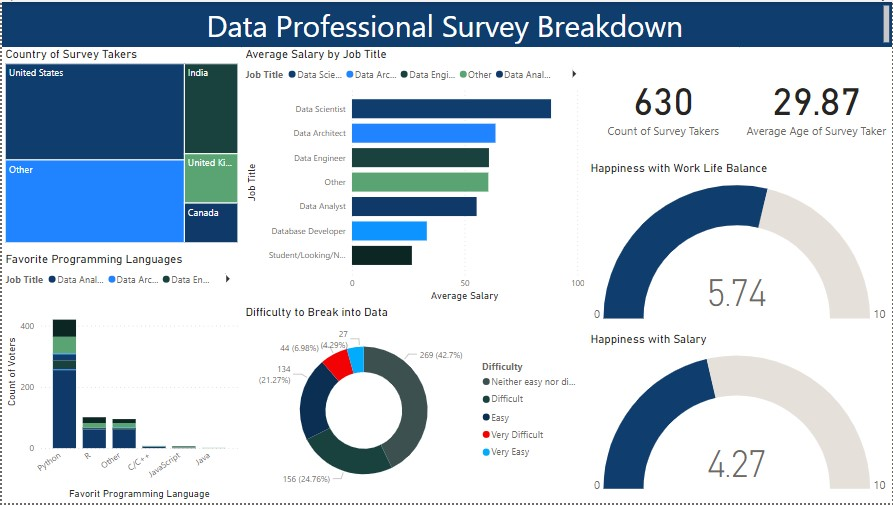

What the dashboard file says about the page in this screenshot:
{"tool":"powerbi","page":{"name":"Page 1","canvas":[1280,720],"ordinal":0},"visuals":[{"type":"textbox","box":[0,0,1280,65.1],"z":0},{"type":"card","fields":{"Values":["Count(Data Professional Survey.Unique ID)"]},"box":[841.3,65.1,219.3,162.8],"z":1000},{"type":"card","fields":{"Values":["Avg(Data Professional Survey.Q10 - Current Age)"]},"box":[1060.7,65.1,219.3,162.8],"z":2000},{"type":"barChart","title":"Average Salary by Job Title","fields":{"Category":["Data Professional Survey.Q1 - Which Title Best Fits your Current Role?.1"],"Y":["Avg(Data Professional Survey.Average Salary )"],"Series":["Data Professional Survey.Q1 - Which Title Best Fits your Current Role?.1"]},"box":[344.4,65.1,496.9,370.1],"z":3000},{"type":"columnChart","title":"Favorite Programming Languages","fields":{"Category":["Data Professional Survey.Q5 - Favorite Programming Language.1"],"Y":["CountNonNull(Data Professional Survey.Unique ID)"],"Series":["Data Professional Survey.Q1 - Which Title Best Fits your Current Role?.1"]},"box":[0,359.8,344.4,359.8],"z":4000},{"type":"treemap","title":"Country of Survey Takers","fields":{"Group":["Data Professional Survey.Q11 - Which Country do you live in?.1"],"Values":["CountNonNull(Data Professional Survey.Q11 - Which Country do you live in?.1)"]},"box":[0,65.1,344.4,286.2],"z":5000},{"type":"gauge","title":"Happiness with Salary","fields":{"Y":["Avg(Data Professional Survey.Q6 - How Happy are you in your Current Position with the following? (Salary))"],"MinValue":["Min(Data Professional Survey.Q6 - How Happy are you in your Current Position with the following? (Salary))1"],"MaxValue":["Max(Data Professional Survey.Q6 - How Happy are you in your Current Position with the following? (Salary))"]},"box":[841.3,474.6,438.7,245],"z":6000},{"type":"gauge","title":"Happiness with Work Life Balance","fields":{"Y":["Avg(Data Professional Survey.Q6 - How Happy are you in your Current Position with the following? (Work/Life Balance))"],"MinValue":["Min(Data Professional Survey.Q6 - How Happy are you in your Current Position with the following? (Work/Life Balance))"],"MaxValue":["Max(Data Professional Survey.Q6 - How Happy are you in your Current Position with the following? (Work/Life Balance))1"]},"box":[841.3,227.9,438.7,246.7],"z":7000},{"type":"donutChart","title":"Difficulty to Break into Data","fields":{"Category":["Data Professional Survey.Q7 - How difficult was it for you to break into Data?"],"Y":["CountNonNull(Data Professional Survey.Q7 - How difficult was it for you to break into Data?)"]},"box":[344.4,435.2,496.9,284.4],"z":8000}]}

Visuals, with their boxes in screenshot pixels (x1, y1, x2, y2), scaled from the page's 1280x720 canvas onto the 893x505 screenshot:
textbox: bbox=[0, 0, 892, 46]
card - Count(Data Professional Survey.Unique ID): bbox=[587, 46, 740, 160]
card - Avg(Data Professional Survey.Q10 - Current Age): bbox=[740, 46, 892, 160]
"Average Salary by Job Title" barChart: bbox=[240, 46, 587, 305]
"Favorite Programming Languages" columnChart: bbox=[0, 252, 240, 504]
"Country of Survey Takers" treemap: bbox=[0, 46, 240, 246]
"Happiness with Salary" gauge: bbox=[587, 333, 892, 504]
"Happiness with Work Life Balance" gauge: bbox=[587, 160, 892, 333]
"Difficulty to Break into Data" donutChart: bbox=[240, 305, 587, 504]
